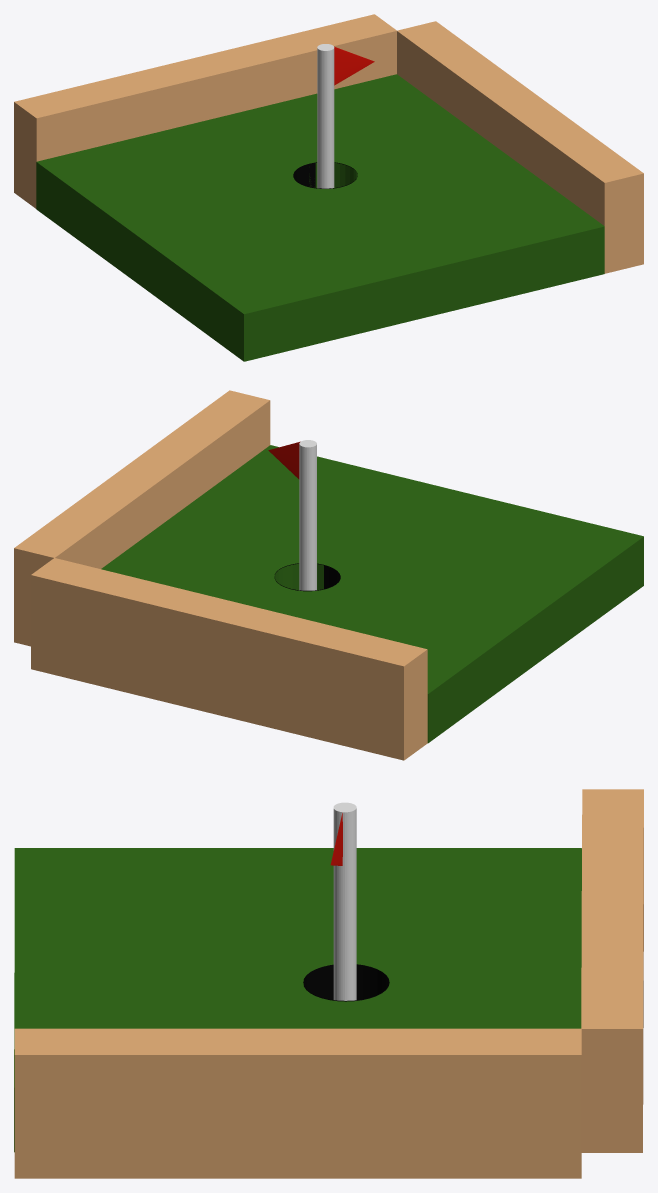
The model's file is NewLego9.fbx.
3 renders of one model, top to bottom at view 1: azimuth 30°, elevation 25°; view 2: azimuth 150°, elevation 25°; view 3: azimuth 270°, elevation 25°, orthographic. The views are drawn at different scales.
Visible parts, largest first — view 1: Cube.074, Cube.066, Pole.006, flag.006, Cylinder.006; view 2: Cube.074, Cube.066, Pole.006, flag.006; view 3: Cube.066, Cube.074, Pole.006, Cylinder.006.
Boxes of the visible parts, x1,y1,x2,y2 form: Cube.074: (36,74,604,361); Cube.066: (14,14,643,273); Pole.006: (317,44,334,188); flag.006: (334,46,374,85); Cylinder.006: (293,162,357,188); Cube.074: (101,445,643,743); Cube.066: (14,390,427,760); Pole.006: (299,440,316,590); flag.006: (268,441,300,479); Cube.066: (14,789,643,1178); Cube.074: (14,848,581,1152); Pole.006: (333,802,356,1000); Cylinder.006: (303,964,389,1001).
Size of the model in its own units: 201 by 84.57 by 201.
